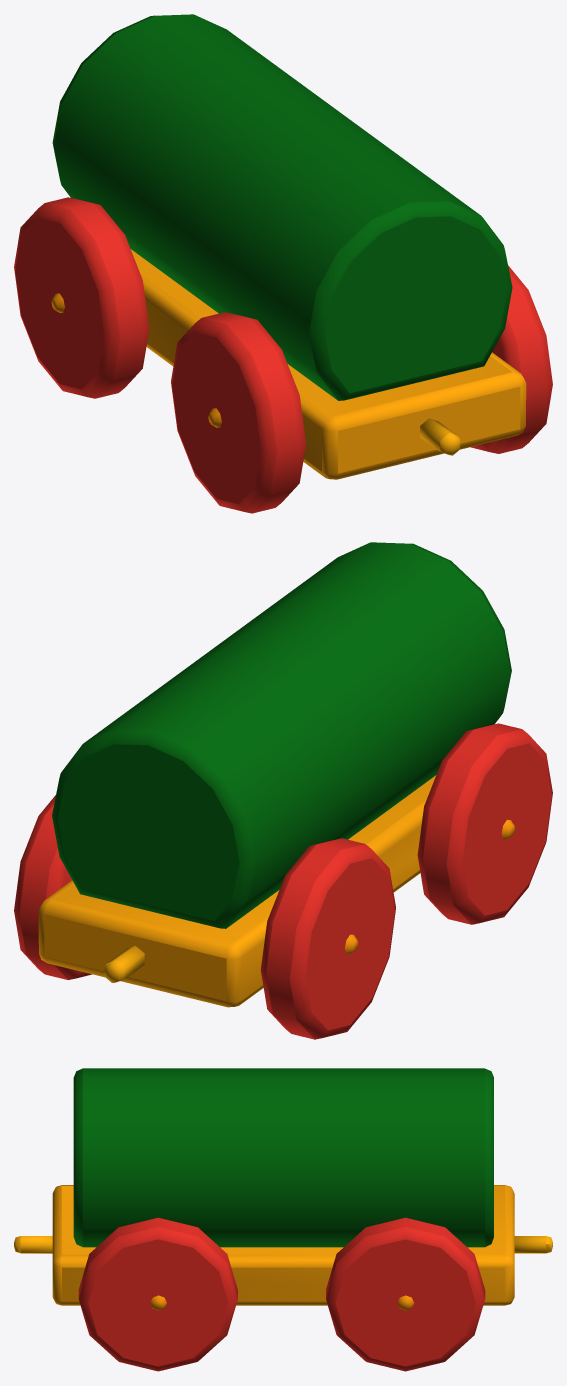
File: TrainCar3.fbx
3 views of the same model, one above another, from view 1: azimuth 30°, elevation 25°; view 2: azimuth 150°, elevation 25°; view 3: azimuth 270°, elevation 25° (orthographic). The views are drawn at different scales.
Parts seen in each view (by area): view 1: TrainCar3, Tire.003, Tire, Tire.001; view 2: TrainCar3, Tire, Tire.003, Tire.002; view 3: TrainCar3, Tire.001, Tire.002.
Boxes of the visible parts, x1=… form: TrainCar3: x1=52, y1=14, x2=526, y2=479; Tire.003: x1=14, y1=197, x2=149, y2=398; Tire: x1=171, y1=312, x2=306, y2=513; Tire.001: x1=470, y1=265, x2=552, y2=453; TrainCar3: x1=38, y1=542, x2=511, y2=1007; Tire: x1=417, y1=723, x2=552, y2=924; Tire.003: x1=260, y1=838, x2=395, y2=1039; Tire.002: x1=14, y1=795, x2=91, y2=979; TrainCar3: x1=14, y1=1068, x2=552, y2=1305; Tire.001: x1=78, y1=1217, x2=237, y2=1371; Tire.002: x1=326, y1=1217, x2=485, y2=1371.
Size of the model in its own units: 14.85 by 14.5 by 29.22.
